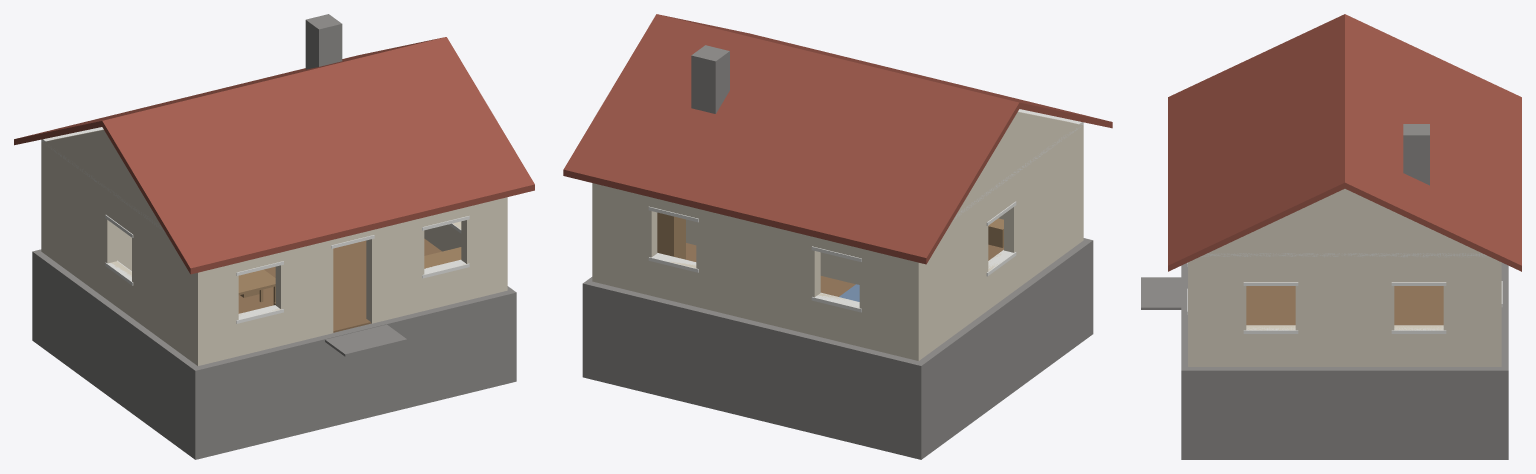
File: bld_house.glb
The picture shows the model from 3 angles, left to right: view 1: azimuth 30°, elevation 25°; view 2: azimuth 150°, elevation 25°; view 3: azimuth 270°, elevation 25°; orthographic projection. The views are drawn at different scales.
Parts seen in each view (by area): view 1: House; view 2: House; view 3: House.
Part boxes in pixels (x1,y1,x2,y2): House: (14, 14, 534, 459); House: (563, 14, 1112, 459); House: (1141, 14, 1521, 459).
Size of what is drawn, in the model's own units: 8.9 by 7.22 by 8.5.
